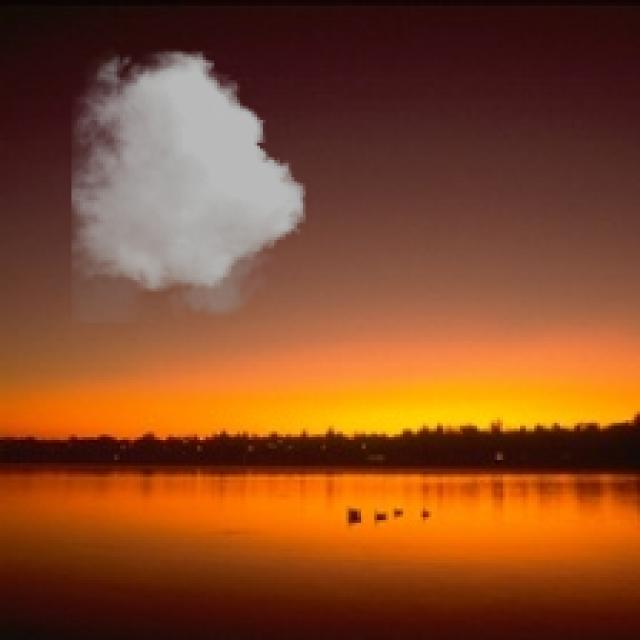smoke: (71, 46, 306, 323)
